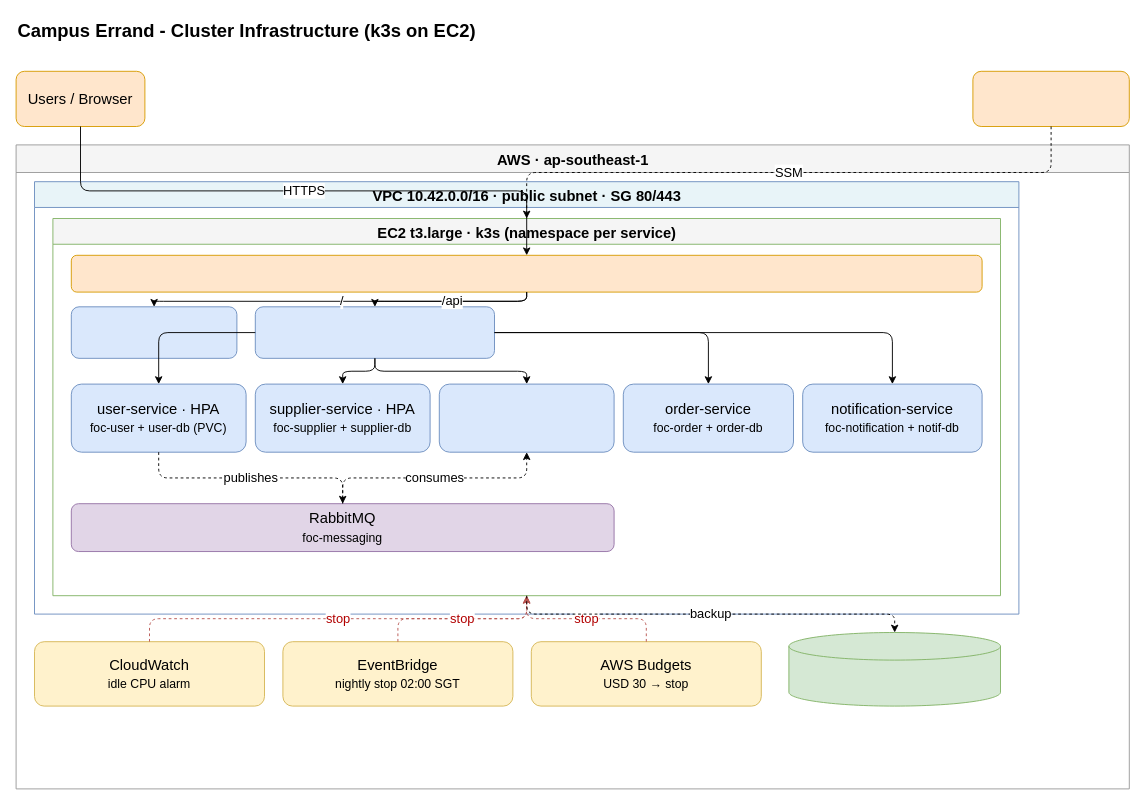
The diagram is 1145 pixels wide and 805 high, and some of its shapes have lost their labels. Here are the shapes that lost their labels. From the top down, the centre of each, then its label:
point 1050,98: Admin (SSM Session Manager)
point 526,273: Traefik Ingress (k3s) · 80/443 · nip.io TLS
point 153,332: frontend foc-frontend · nginx
point 374,332: api-gateway foc-gateway · JWT · HPA 1-4
point 526,417: credit-service · HPA foc-credit + credit-db
point 894,669: S3 backups pg_dump nightly
